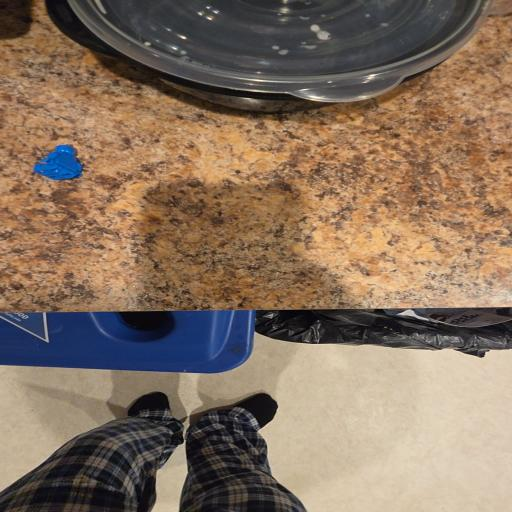Blue: (34, 145, 82, 180)
